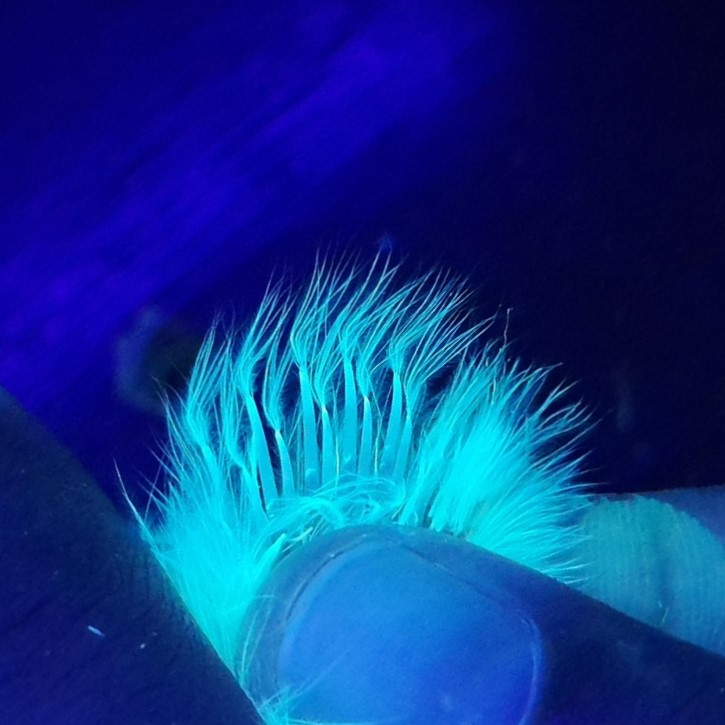female: (223, 344, 456, 576)
